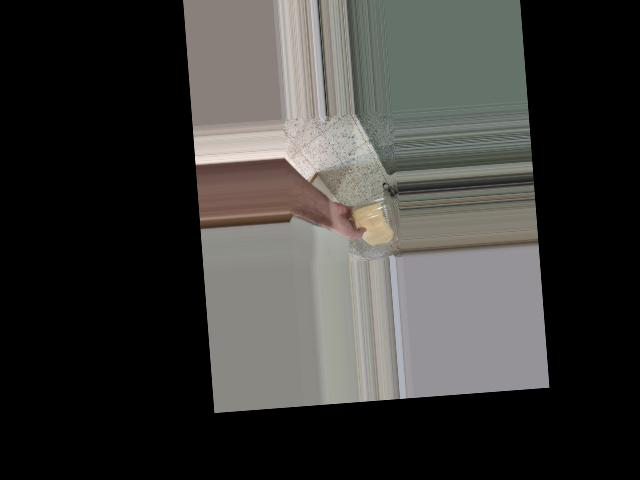cheese: (349, 197, 397, 249)
